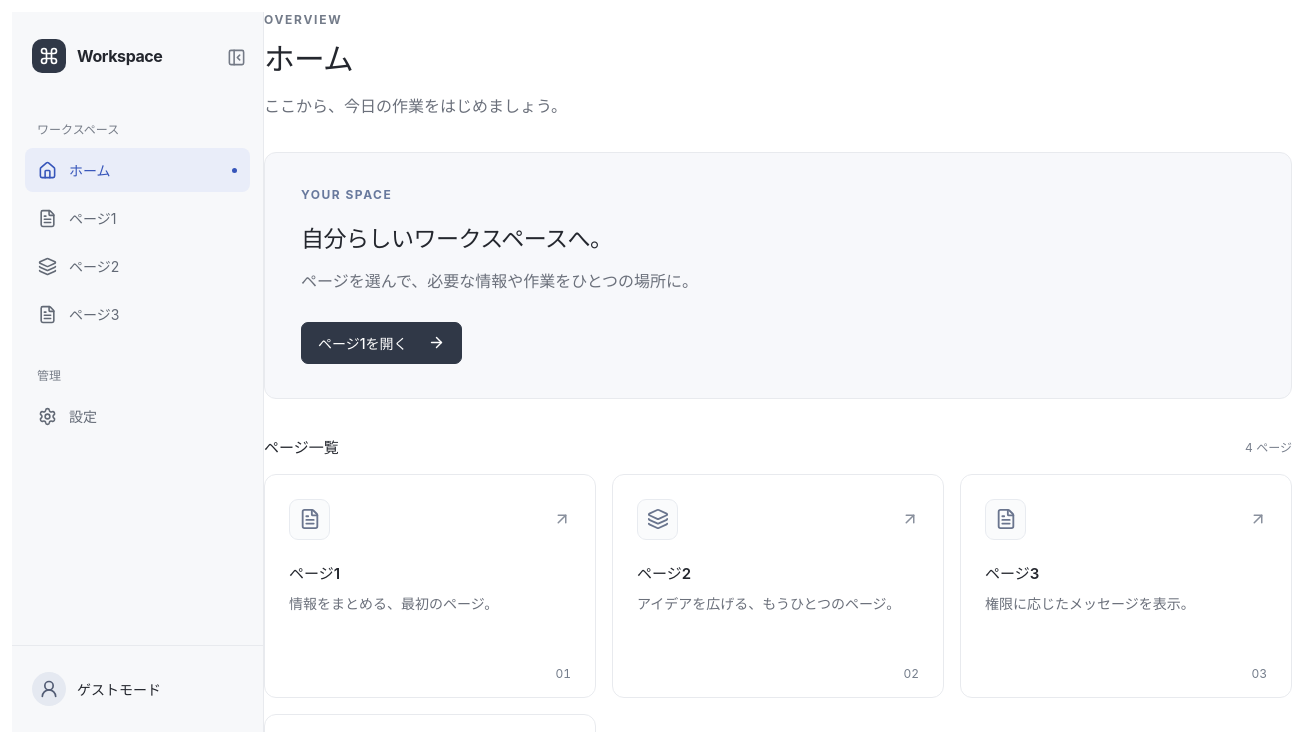
Test: 再利用できるSPAレイアウト › localStorageが壊れている場合や利用不可でも表示・開閉できる
Step 1. Click the button named "サイドパネルを閉じる" → (236, 57), box [219,40,253,74]
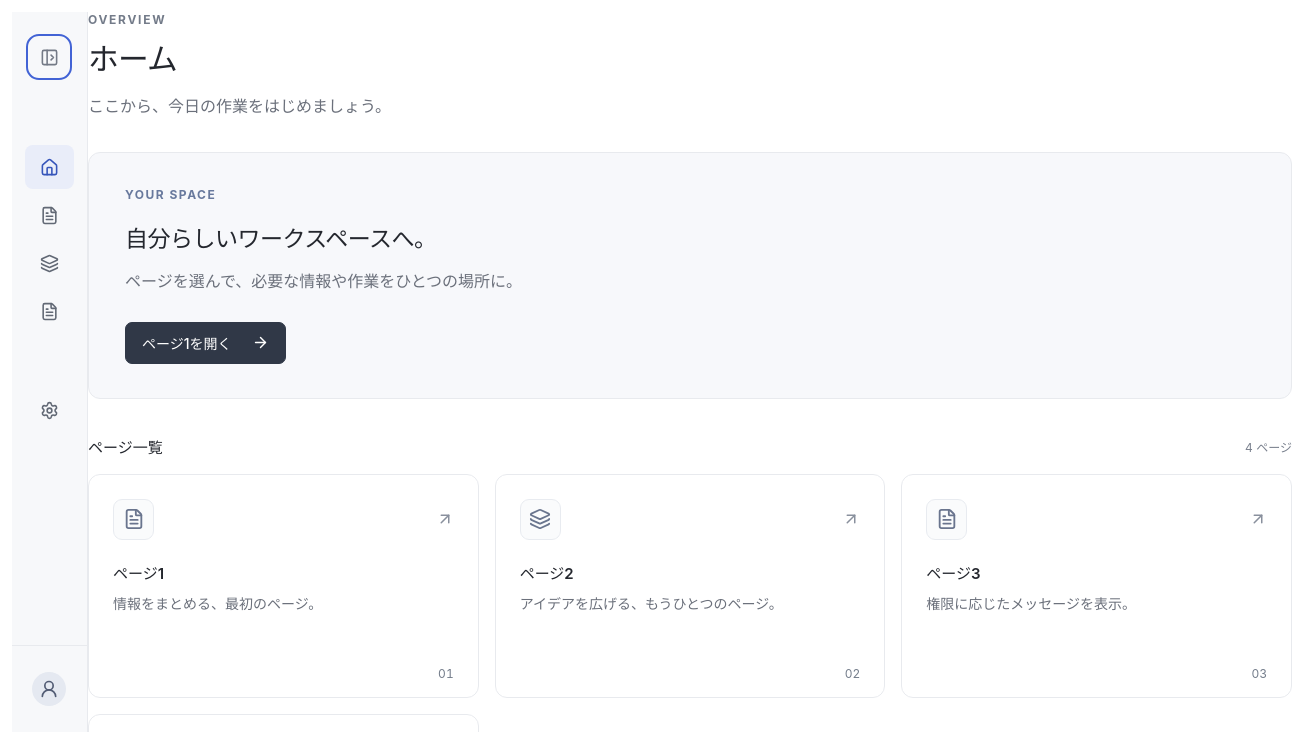
Result: the button named "サイドパネルを開く" is shown at [32,40,66,74]
